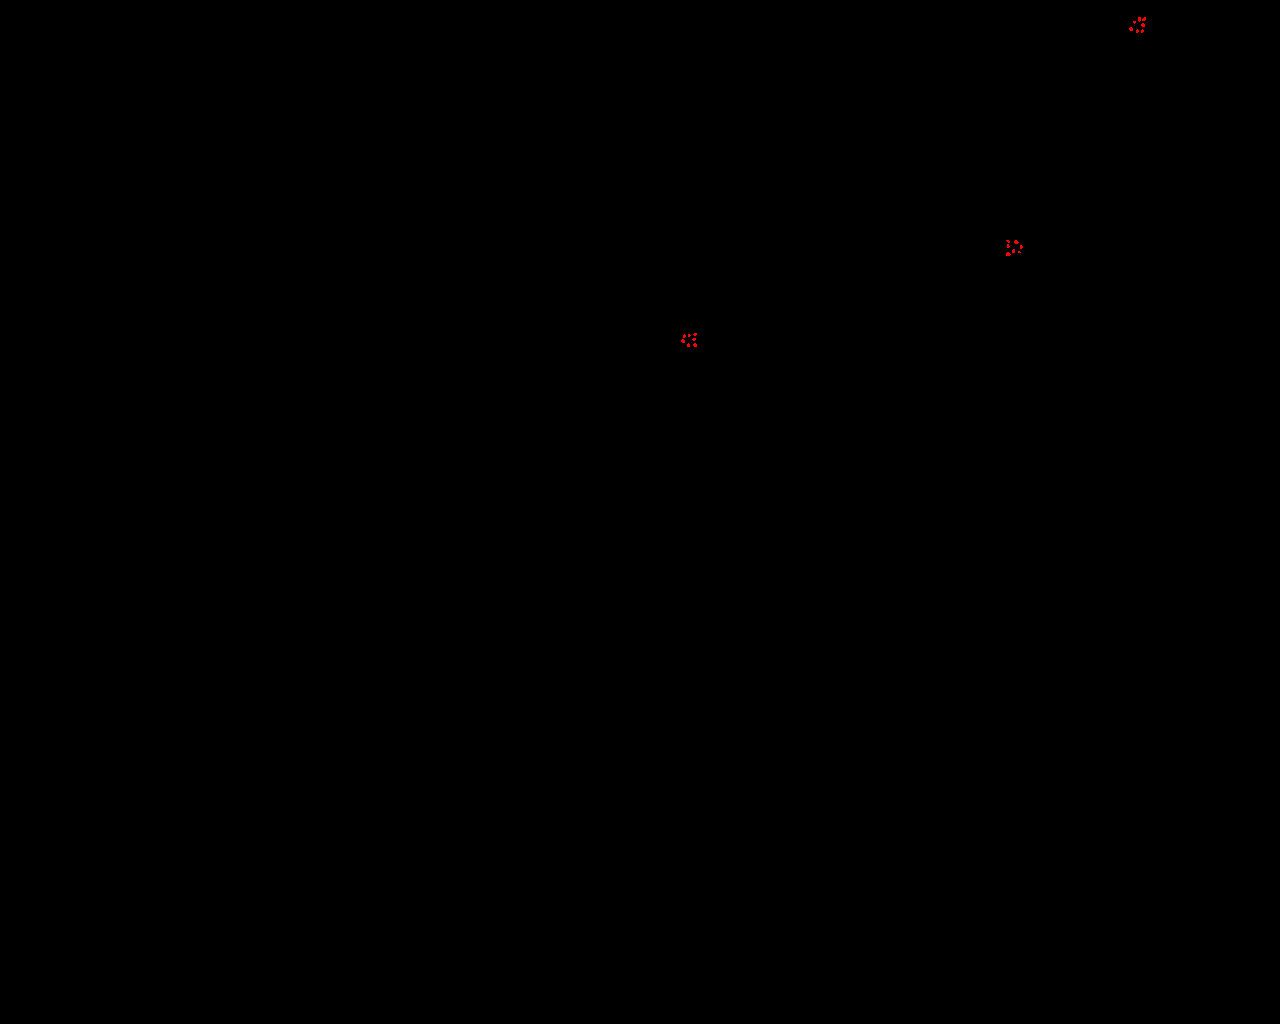Target: (1014, 240, 1019, 245), (1006, 252, 1011, 256), (1142, 17, 1146, 21), (1141, 23, 1145, 27), (1128, 27, 1133, 31), (681, 339, 685, 343), (693, 343, 697, 347), (1138, 17, 1141, 22), (1136, 29, 1139, 33), (1141, 29, 1144, 33), (1006, 240, 1010, 243), (1020, 245, 1023, 249), (693, 333, 697, 336), (692, 338, 696, 341), (686, 343, 690, 347), (1133, 21, 1136, 24), (1007, 245, 1010, 248), (683, 334, 686, 338), (688, 334, 691, 338), (1013, 249, 1015, 253), (1018, 251, 1021, 253)
